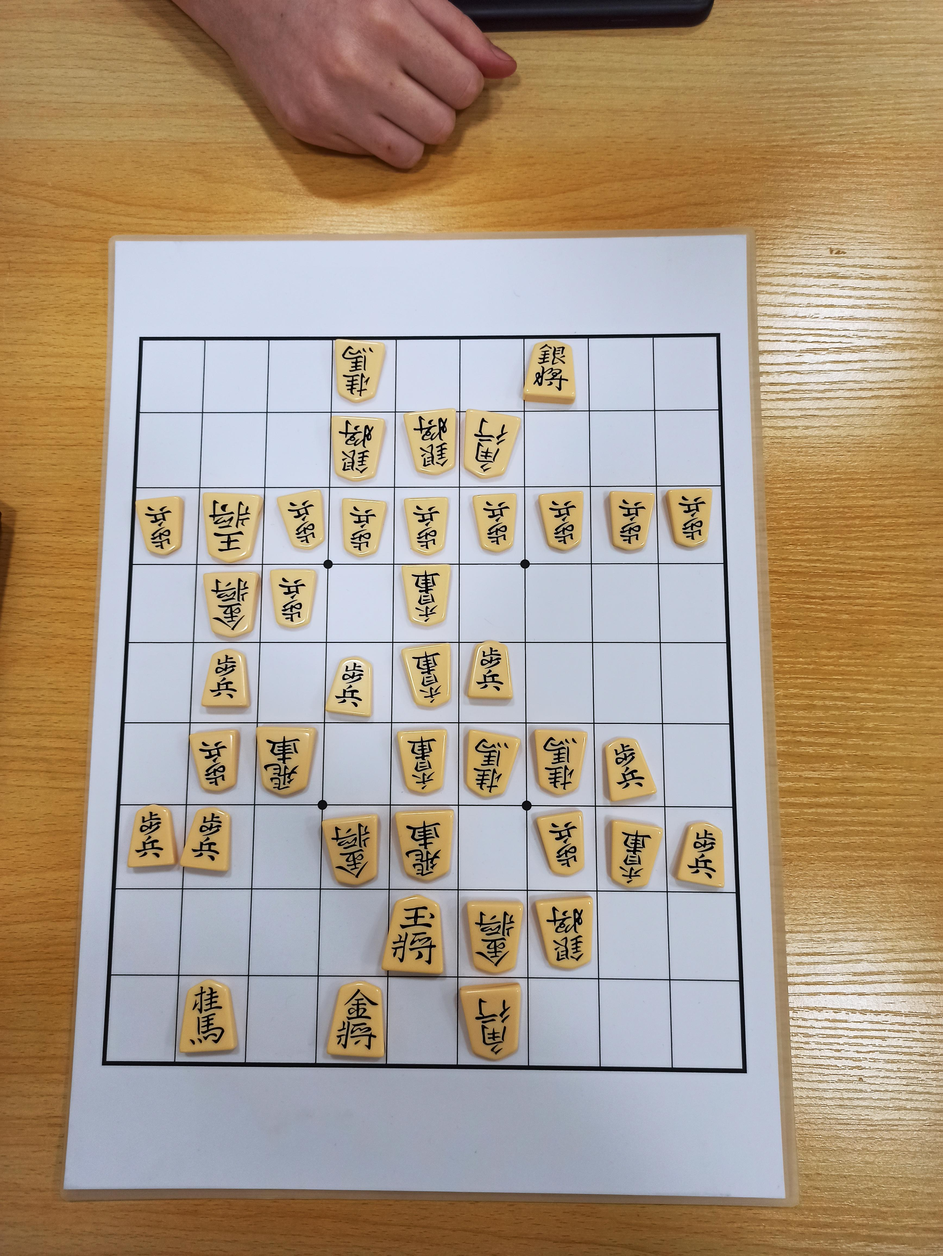board: (104, 335, 745, 1070)
